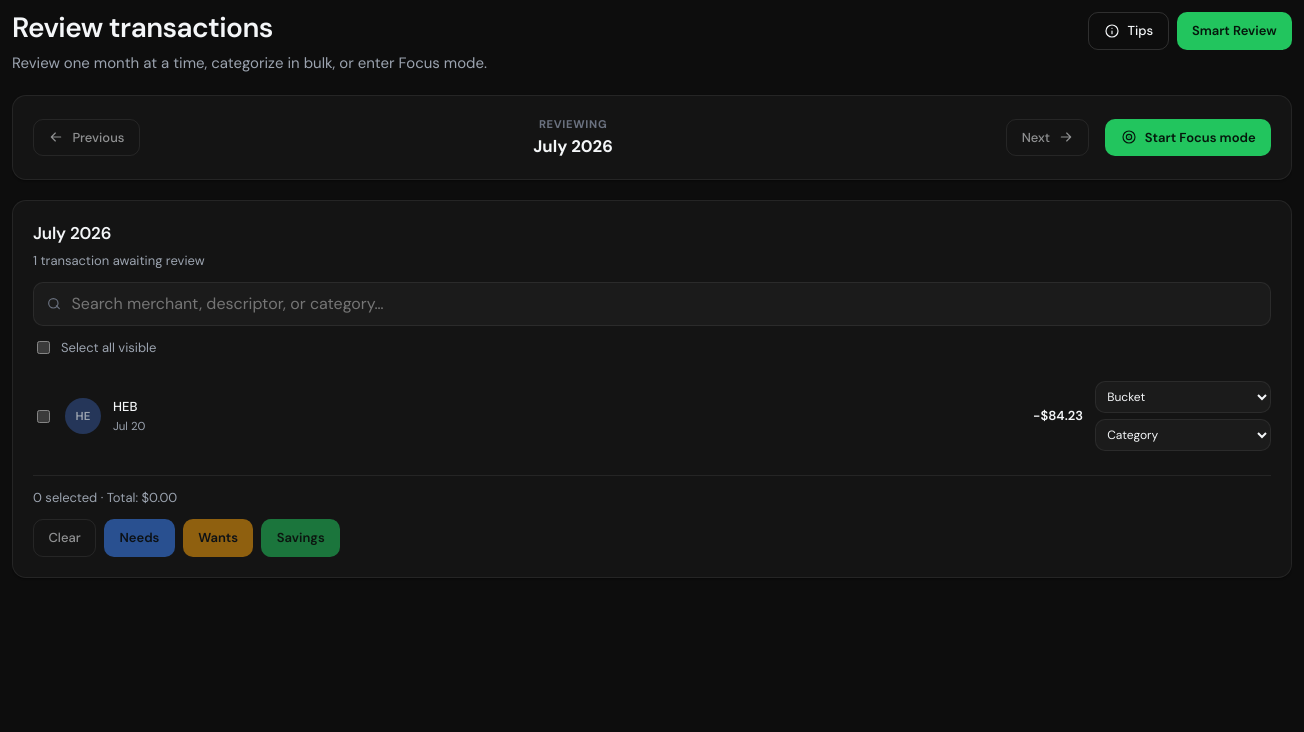
Test case: TransactionReviewView › categorizes one transaction from its row
Select "Savings" in the dropdown with class "bucket": (1183, 397) [1095,381,1271,413]
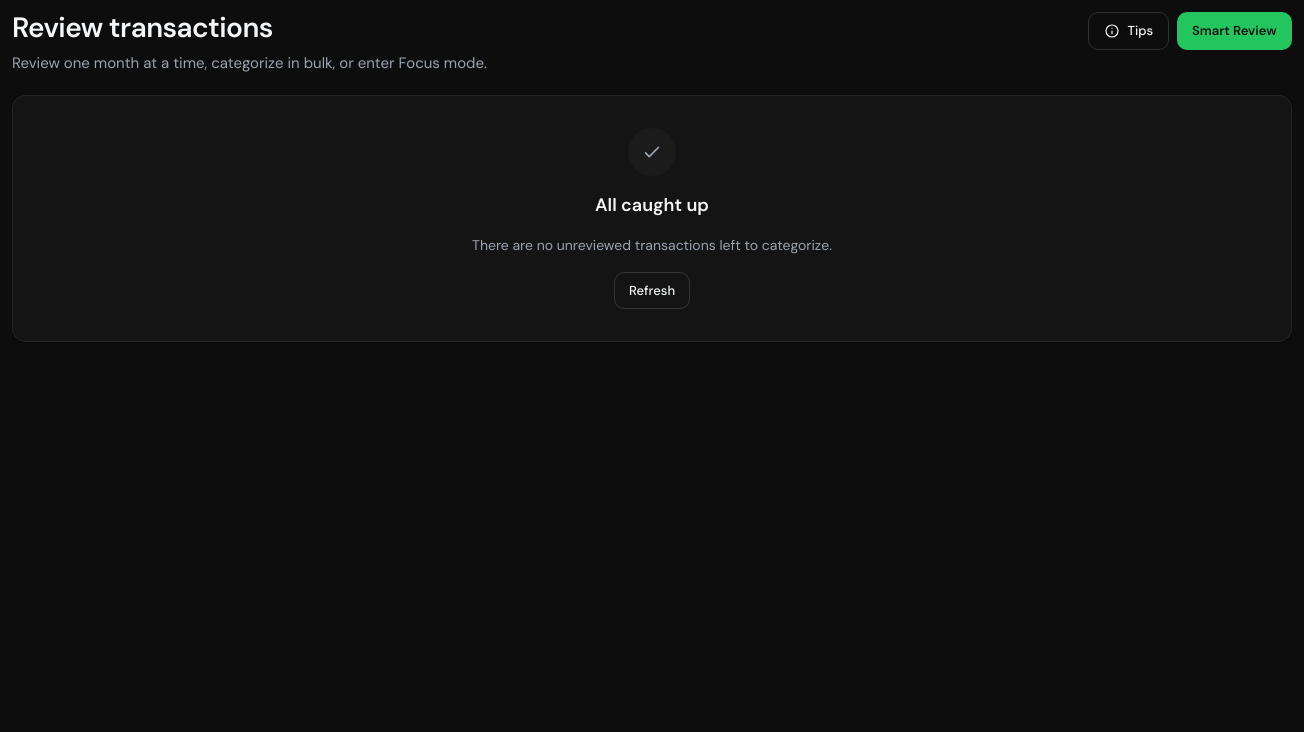
Expected: the text "All caught up" is shown, [595,192,709,219]
